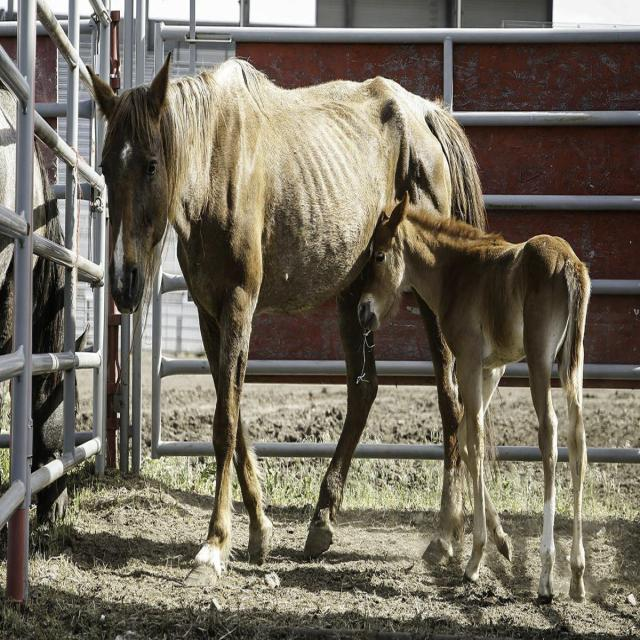horse: (90, 55, 485, 578), (358, 196, 590, 597)
